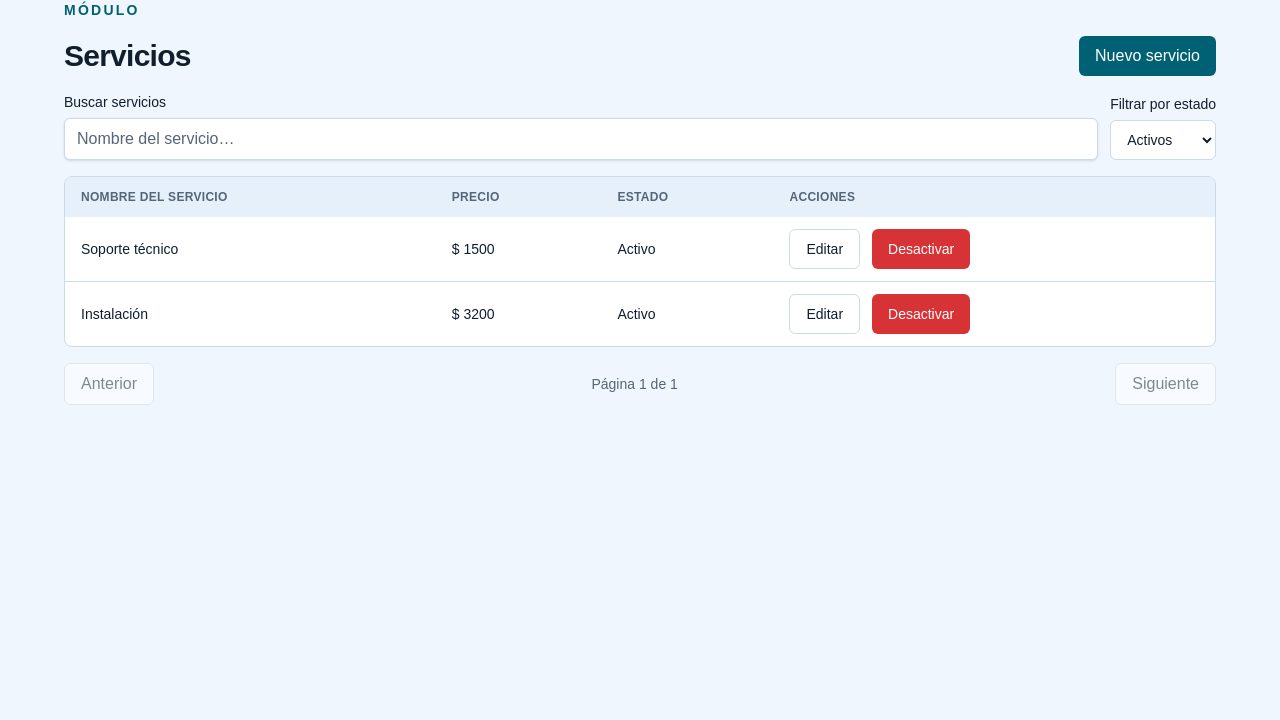
Test: ServiciosPage › blocks creation with a validation error and no POST
Check: the text "Soporte técnico" is shown, box x1=65 y1=217 x2=436 y2=282
Click the button "Nuevo servicio": (1148, 56) x1=1079 y1=36 x2=1216 y2=76
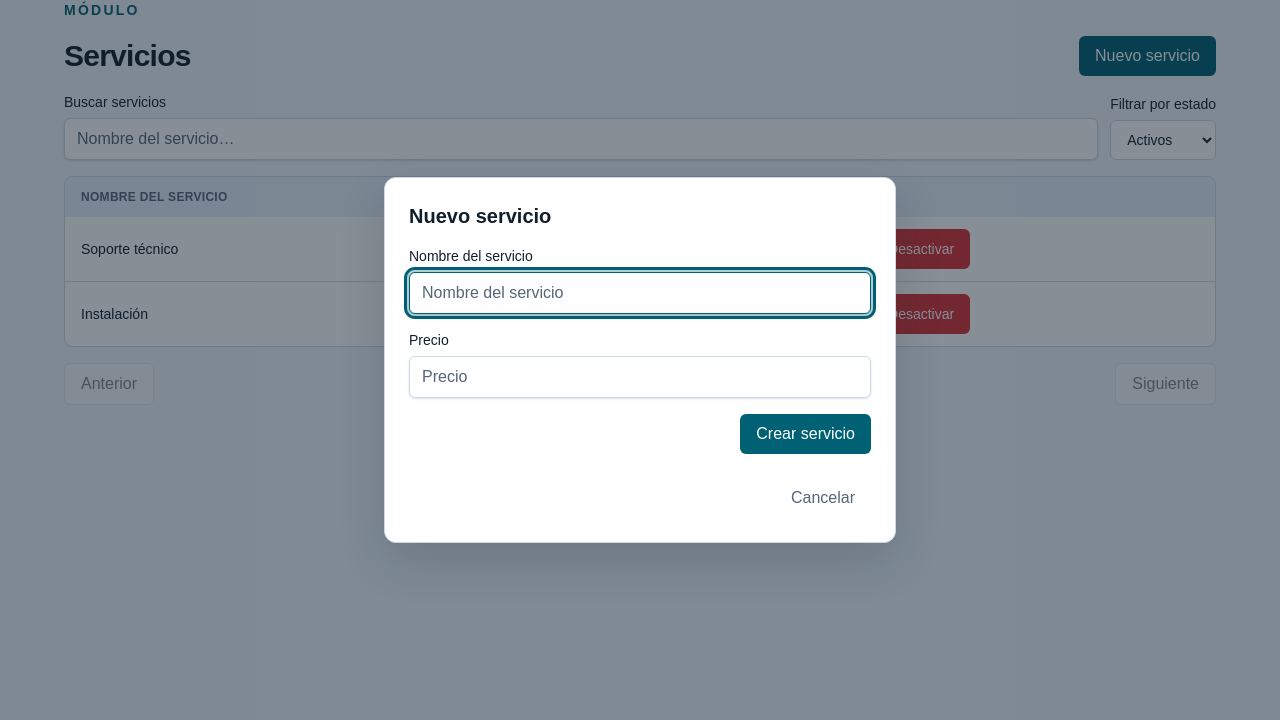
Click the button "Crear servicio": (806, 434) x1=740 y1=414 x2=871 y2=454
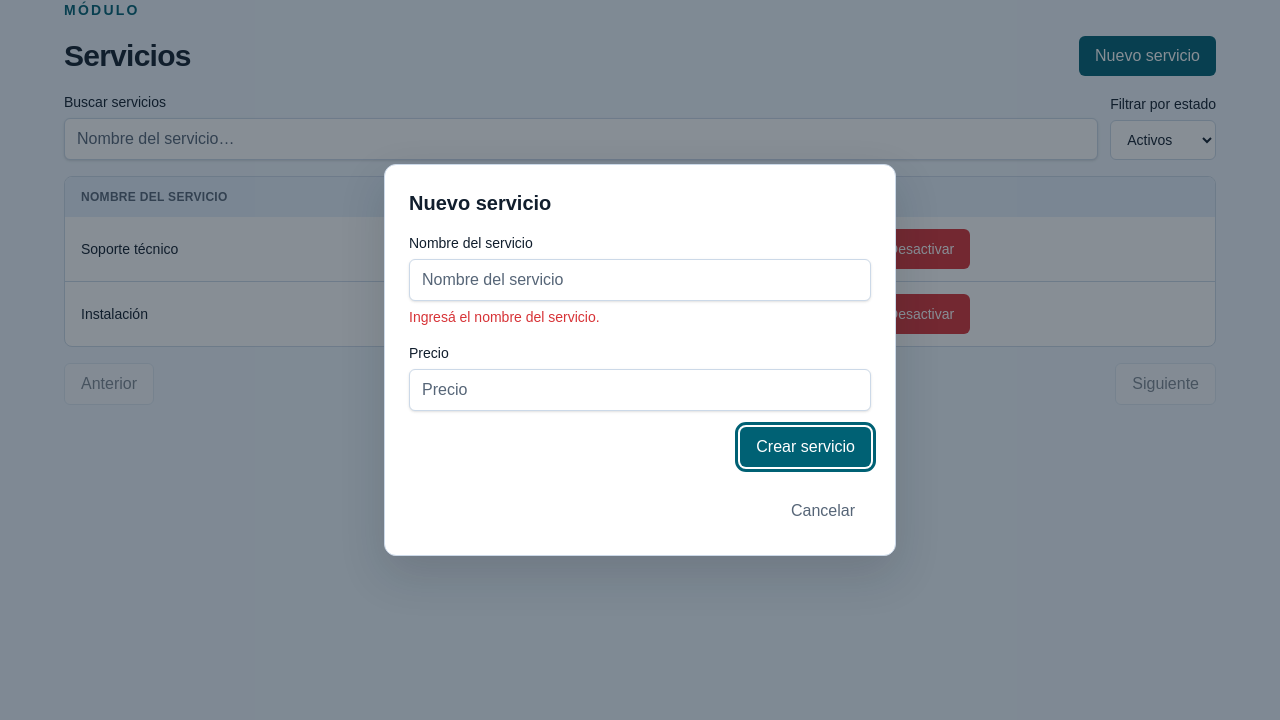
Check: the text "Ingresá el nombre del servicio." is shown, box x1=409 y1=309 x2=600 y2=325
